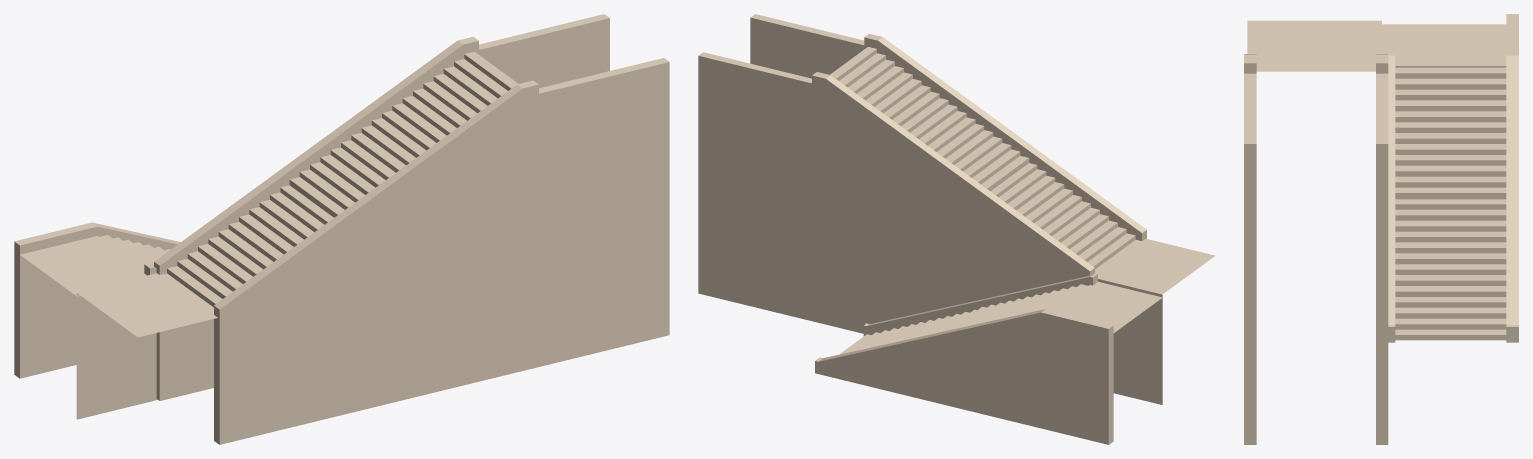
File: BC_InsideStair_B.fbx
The picture shows the model from 3 angles, left to right: view 1: azimuth 30°, elevation 25°; view 2: azimuth 150°, elevation 25°; view 3: azimuth 270°, elevation 25°; orthographic projection. The views are drawn at different scales.
Visible parts, largest first — view 1: BC_InsideStair_B; view 2: BC_InsideStair_B; view 3: BC_InsideStair_B.
Part boxes in pixels (<box>): BC_InsideStair_B: <box>14,14,669,444</box>; BC_InsideStair_B: <box>698,14,1214,444</box>; BC_InsideStair_B: <box>1244,14,1518,444</box>.
Bounding box in the file's own units: 2484 × 1269 × 1010.
